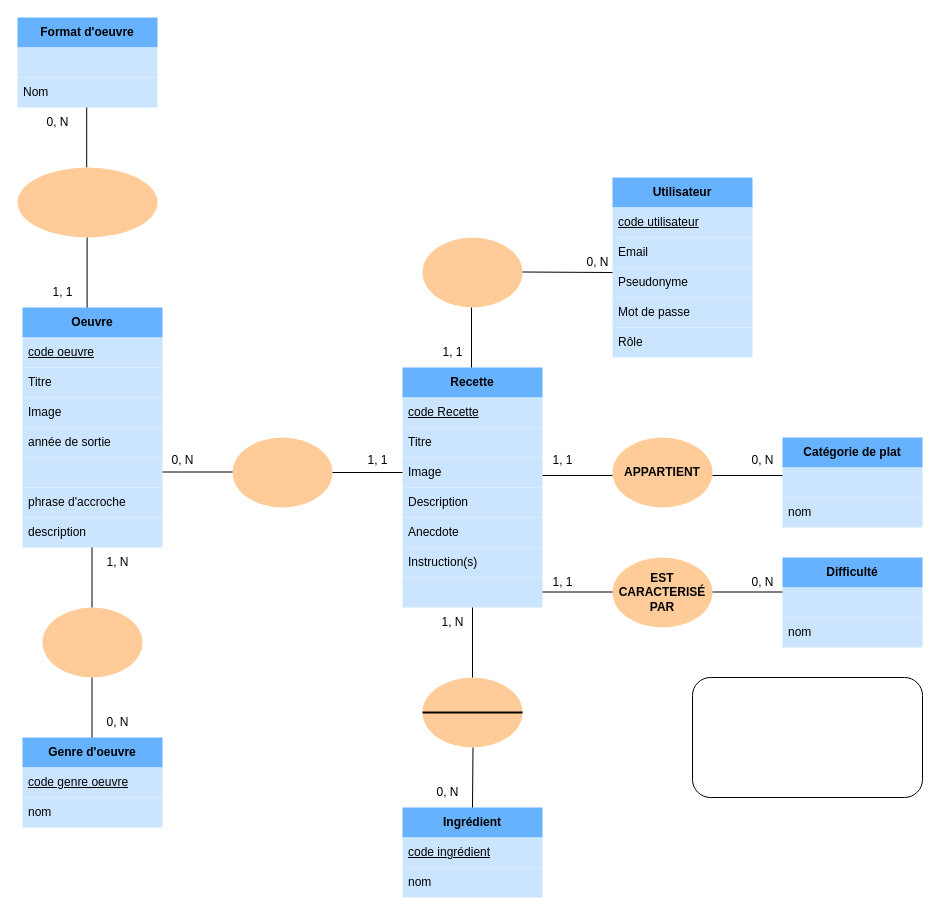
Image size: 940x914. Some labels were removed from this diagram. The shapes that lost their labels are listed below. From the top down, each one's centre as x and y in pixels, then its label:
the point at 87,62: code format oeuvre
the point at 87,202: CARACTÉRISE
the point at 472,272: CRÉER
the point at 92,472: réalisateur
the point at 282,472: INSPIRE
the point at 852,482: code catégorie de plat
the point at 472,592: temps de réalisation
the point at 852,602: code difficulté
the point at 92,642: EST REFERENCÉ PAR
the point at 472,712: INCLUT QUANTITÉ MESURE
the point at 807,737: POUR TOUTE LES ENTITES création à mise à jour à
